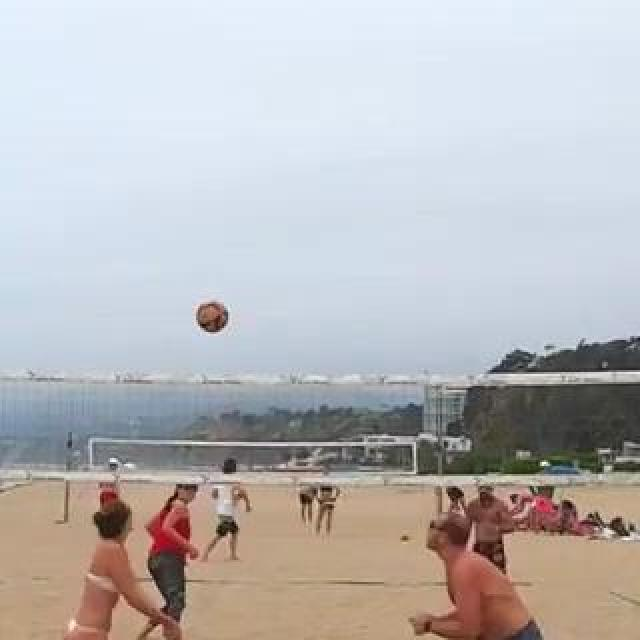volleyball: (195, 300, 229, 332)
